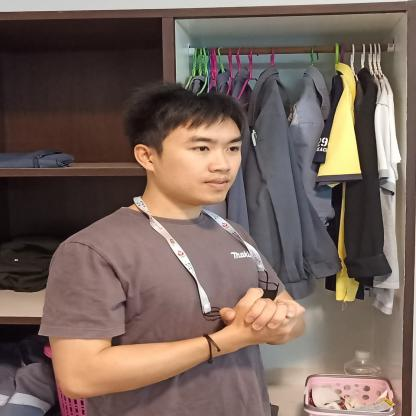Grieve: (203, 274, 320, 359)
